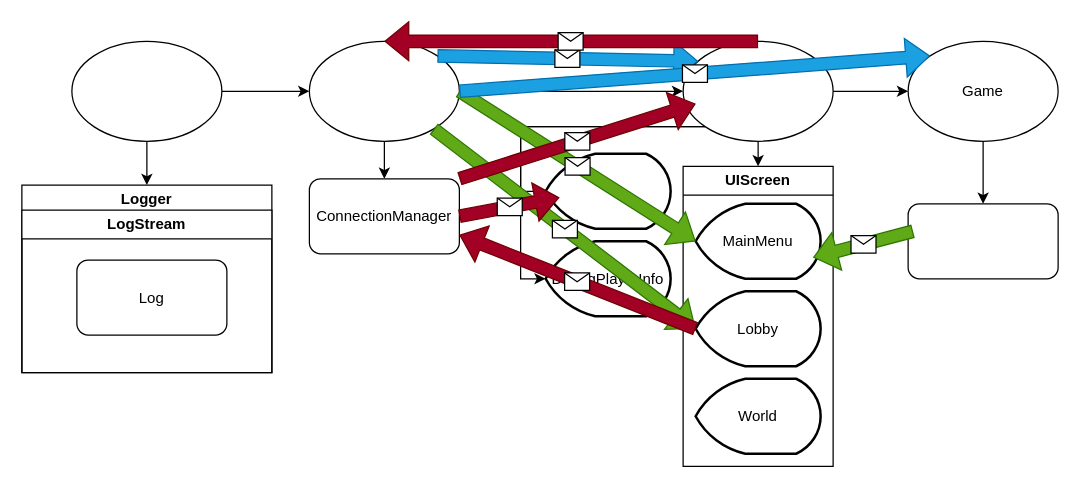
The diagram is 1080 pixels wide and 489 high, and some of its shapes have lost their labels. Here are the shapes that lost their labels. From the top down, the centre of each, then its label:
point 146,90: Addons
point 383,90: Server
point 757,90: UI
point 607,190: DebugLog
point 982,240: LocalConfig
